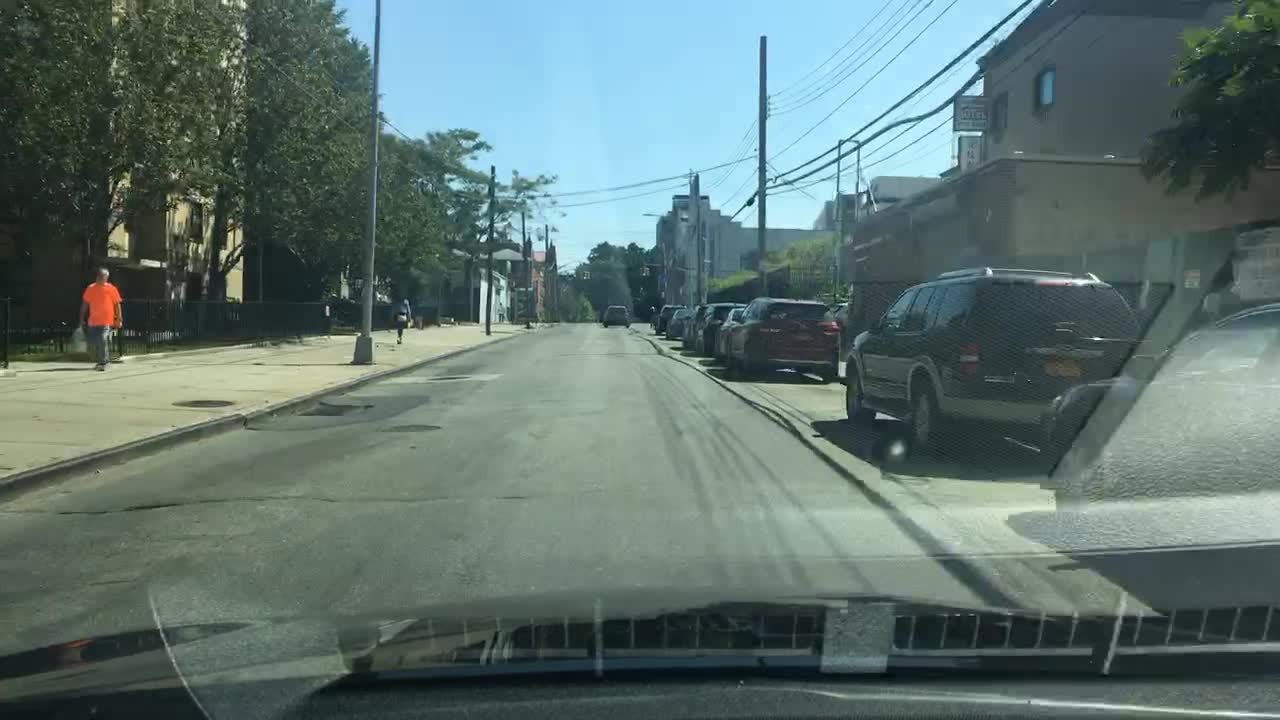car: (1036, 299, 1276, 599), (844, 269, 1142, 457), (727, 297, 839, 380), (695, 302, 747, 354), (713, 306, 744, 363), (678, 305, 707, 349), (664, 306, 693, 339), (653, 303, 682, 334), (601, 303, 632, 327)
person: (78, 265, 125, 369), (391, 294, 412, 344), (646, 301, 657, 330), (495, 301, 506, 323)
traffic light: (578, 270, 584, 282), (639, 267, 645, 276), (584, 270, 588, 279), (646, 268, 649, 276)
